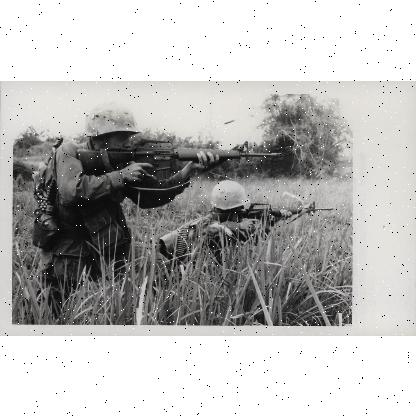gun: (76, 138, 278, 180), (210, 199, 336, 233)
